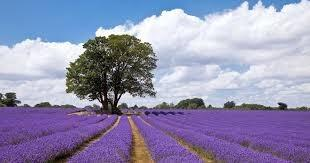field: (132, 110, 309, 162), (68, 115, 131, 161)
